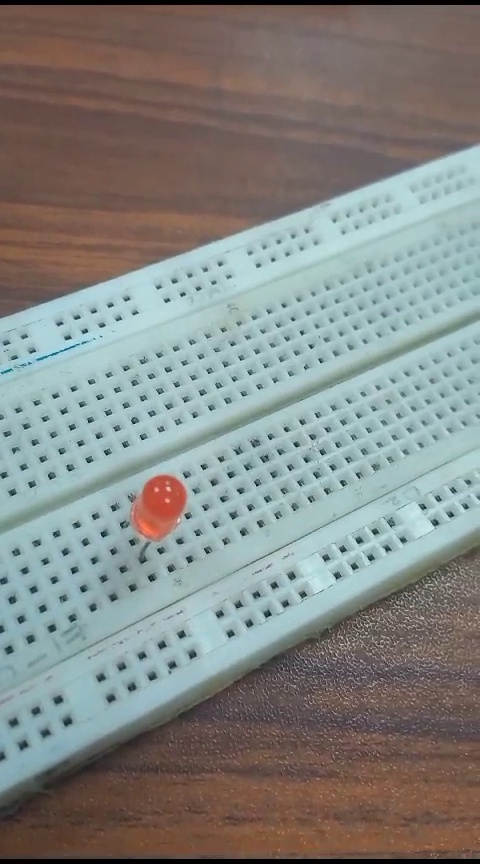LED: (122, 473, 194, 557)
